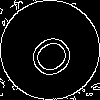O: (25, 25, 85, 83)
